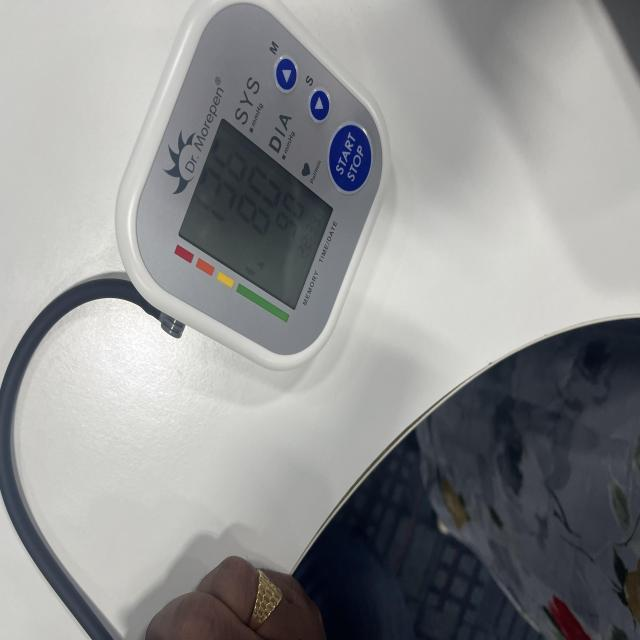bp: (113, 0, 390, 372)
